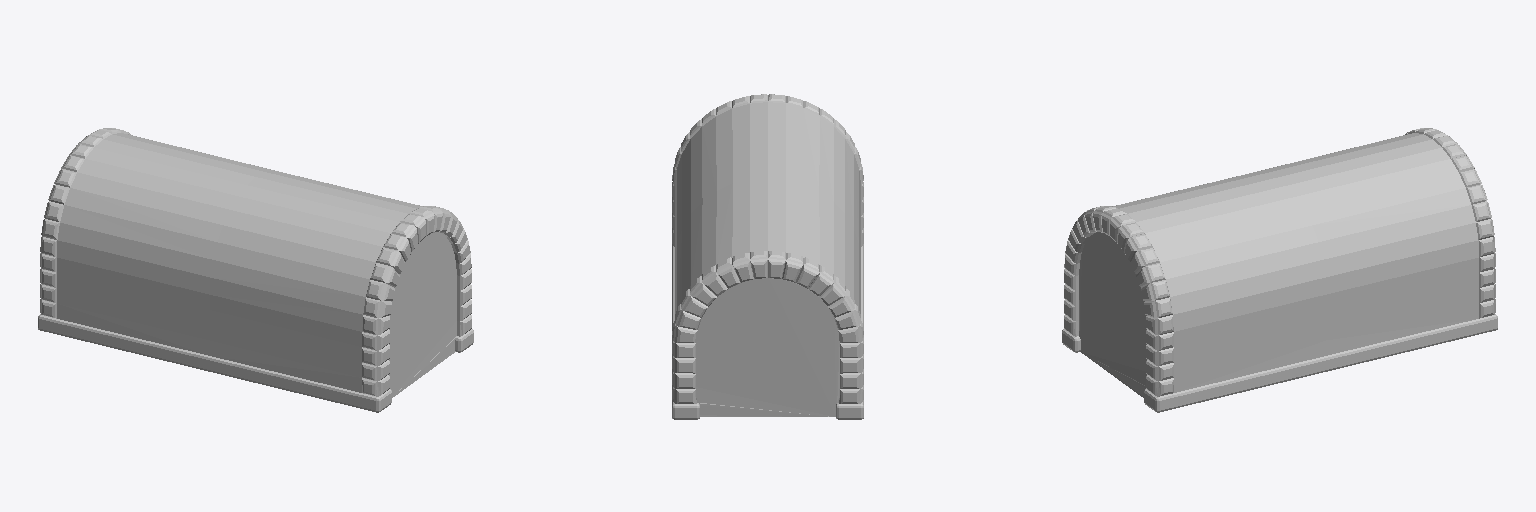
Rendered from SM_tunel.obj.
3 renders of one model, left to right at view 1: azimuth 30°, elevation 25°; view 2: azimuth 150°, elevation 25°; view 3: azimuth 270°, elevation 25°, orthographic.
Parts seen in each view (by area): view 1: Cylinder.001; view 2: Cylinder.001; view 3: Cylinder.001.
Boxes of the visible parts, x1,y1,x2,y2 form: Cylinder.001: [38, 128, 473, 412]; Cylinder.001: [672, 94, 863, 419]; Cylinder.001: [1062, 128, 1497, 412].
Size of the model in its own units: 11.41 by 5.66 by 13.75.